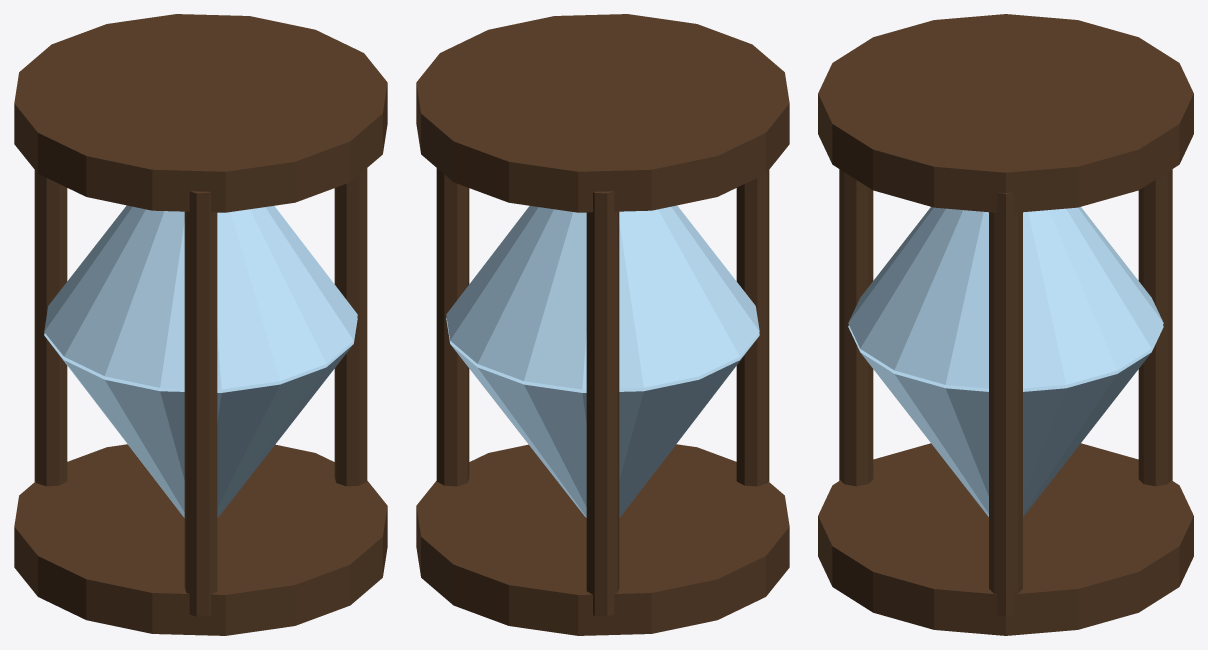
Rendered from Hourglass.obj.
3 views of the same model, side by side, from view 1: azimuth 30°, elevation 25°; view 2: azimuth 150°, elevation 25°; view 3: azimuth 270°, elevation 25° (orthographic).
Parts seen in each view (by area): view 1: 円柱.001, 円柱.002, 円錐, 円錐.001, 円柱.005, 円柱.004, 円柱.003; view 2: 円柱.001, 円柱.002, 円錐, 円錐.001, 円柱.004, 円柱.005, 円柱.003; view 3: 円柱.001, 円柱.002, 円錐, 円錐.001, 円柱.003, 円柱.004, 円柱.005.
Part boxes in pixels (box(x1,y1,x2,y2)): 円柱.001: box(14, 14, 387, 212); 円柱.002: box(14, 444, 387, 635); 円錐: box(44, 205, 357, 389); 円錐.001: box(44, 318, 357, 517); 円柱.005: box(184, 191, 217, 616); 円柱.004: box(34, 170, 67, 486); 円柱.003: box(334, 168, 367, 486); 円柱.001: box(416, 14, 789, 212); 円柱.002: box(416, 444, 789, 635); 円錐: box(446, 205, 759, 389); 円錐.001: box(446, 318, 759, 517); 円柱.004: box(586, 191, 619, 616); 円柱.005: box(736, 170, 769, 486); 円柱.003: box(436, 168, 469, 486); 円柱.001: box(818, 14, 1193, 212); 円柱.002: box(818, 443, 1193, 635); 円錐: box(848, 207, 1163, 388); 円錐.001: box(848, 325, 1163, 516); 円柱.003: box(989, 192, 1022, 616); 円柱.004: box(1138, 169, 1172, 486); 円柱.005: box(839, 169, 873, 486).
Size of the model in its own units: 1 by 1.36 by 1.
